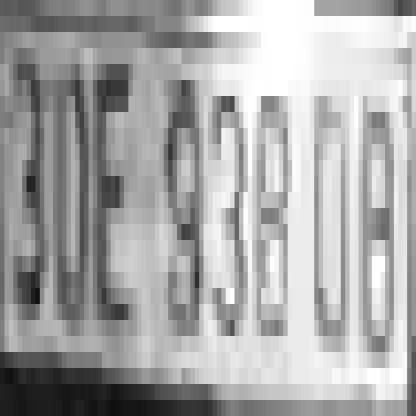0: (49, 64, 93, 320), (306, 80, 346, 336)
3: (4, 48, 44, 304), (208, 96, 243, 336)
8: (247, 80, 288, 336), (354, 96, 394, 352)
9: (164, 96, 204, 320)
E: (93, 80, 133, 320)
